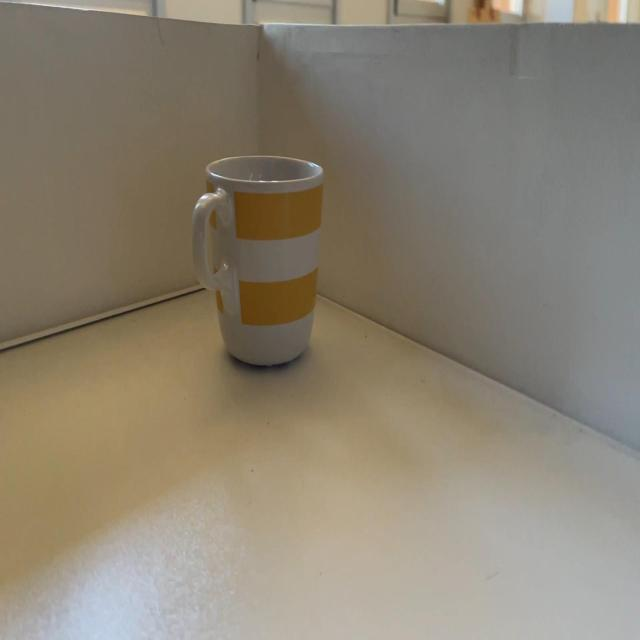cup: (193, 155, 328, 372)
